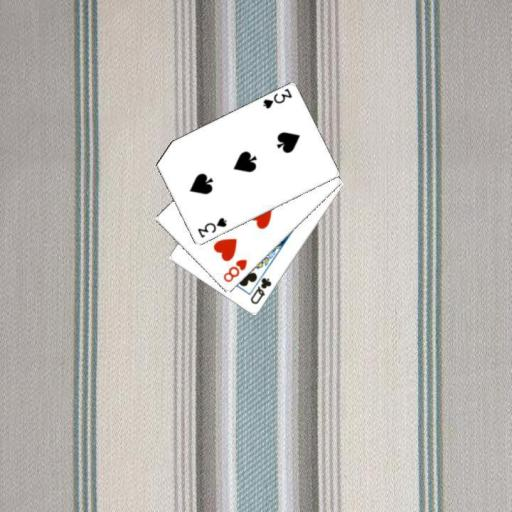3S: (194, 215, 228, 240), (260, 86, 293, 111)
8H: (220, 257, 249, 284)
QC: (247, 274, 273, 306)
